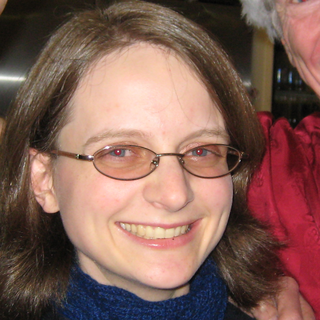eye: (94, 140, 148, 166), (174, 139, 222, 166)
